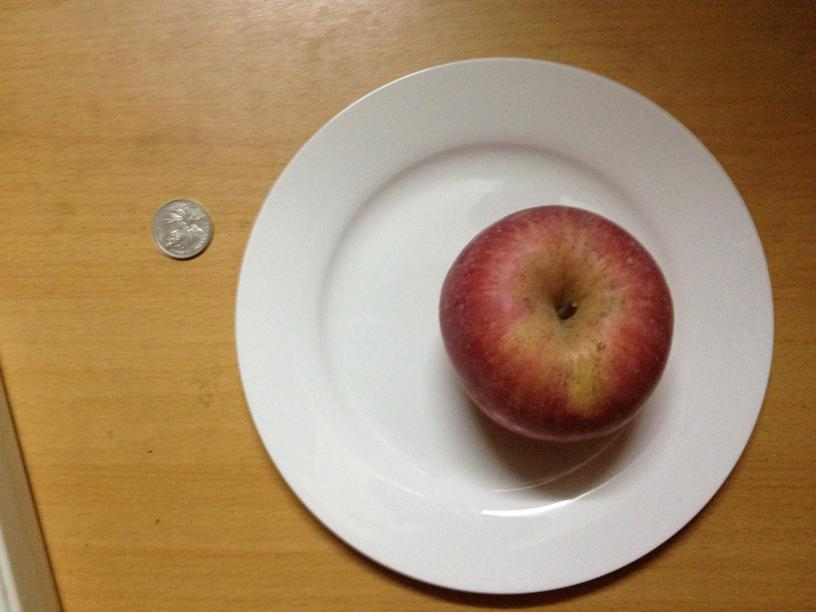apple: (440, 202, 674, 444)
coin: (153, 200, 211, 258)
